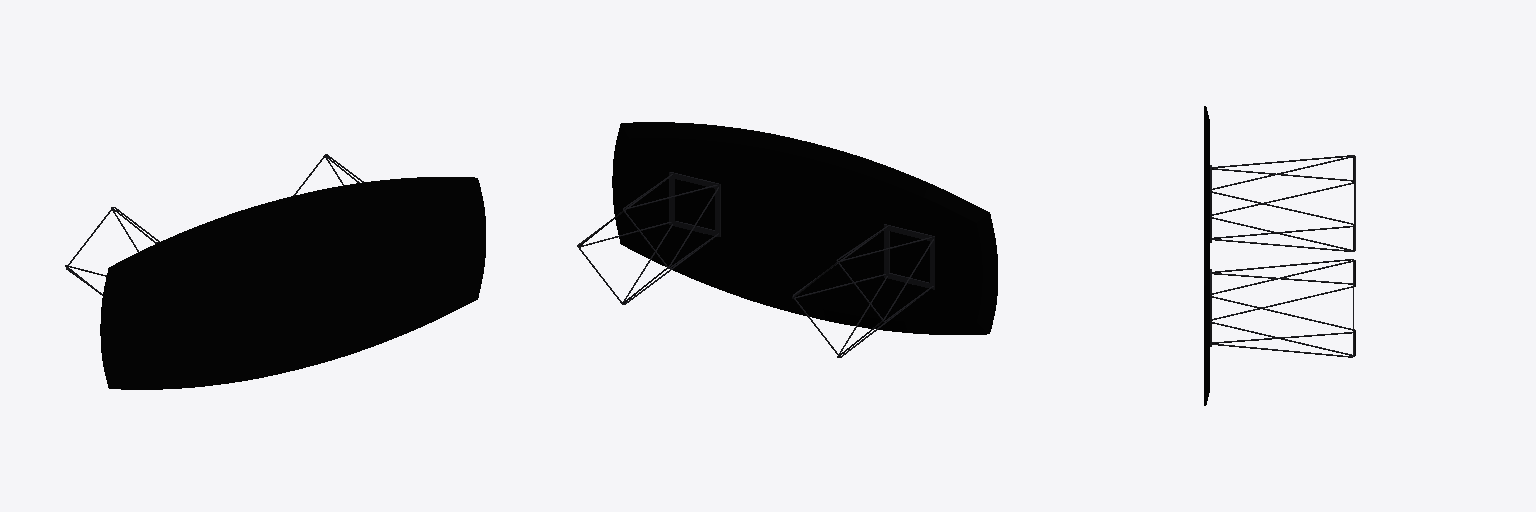
File: Walter_Knoll_Joco_Dining_Table_220.obj
3 renders of one model, left to right at view 1: azimuth 30°, elevation 25°; view 2: azimuth 150°, elevation 25°; view 3: azimuth 270°, elevation 25°, orthographic.
Parts seen in each view (by area): view 1: Walter_Knoll_Joco_Dining_Table_220; view 2: Walter_Knoll_Joco_Dining_Table_220; view 3: Walter_Knoll_Joco_Dining_Table_220.
Boxes of the visible parts, x1,y1,x2,y2 form: Walter_Knoll_Joco_Dining_Table_220: [65, 154, 485, 389]; Walter_Knoll_Joco_Dining_Table_220: [577, 122, 997, 357]; Walter_Knoll_Joco_Dining_Table_220: [1204, 106, 1355, 405].
Bounding box in the file's own units: 220 × 95 × 75.